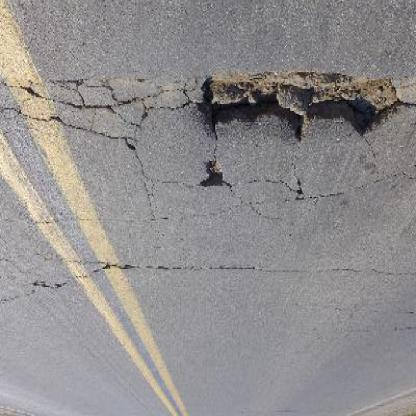pothole: (191, 72, 407, 147), (199, 161, 228, 193)
